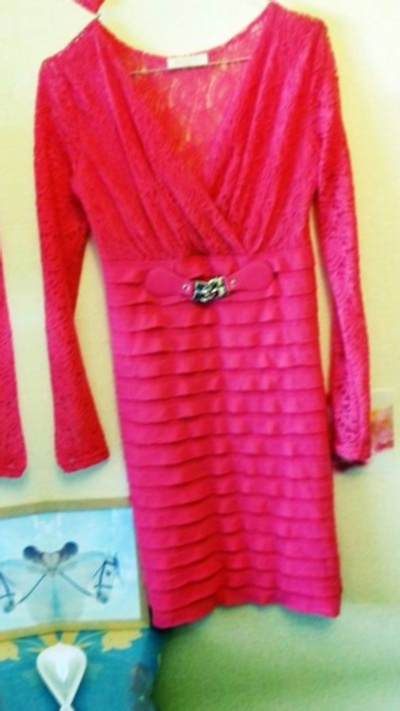Dress: (13, 0, 400, 678), (0, 37, 49, 711), (0, 0, 367, 13), (82, 696, 400, 711)
